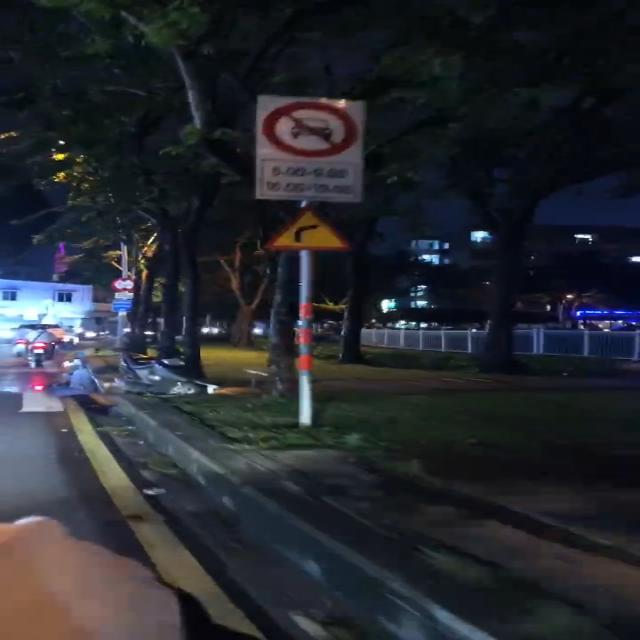Bien bao cam xe oto: (262, 98, 365, 161)
Bien bao cho ngoat nguy hiem: (261, 205, 357, 253)
